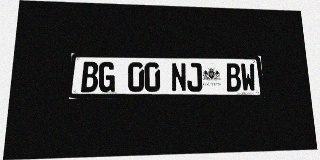0: (128, 62, 144, 92), (144, 62, 160, 92)
B: (81, 62, 99, 92), (225, 63, 241, 92)
G: (98, 62, 115, 92)
J: (186, 63, 202, 92)
N: (171, 63, 187, 92)
W: (240, 63, 256, 91)
